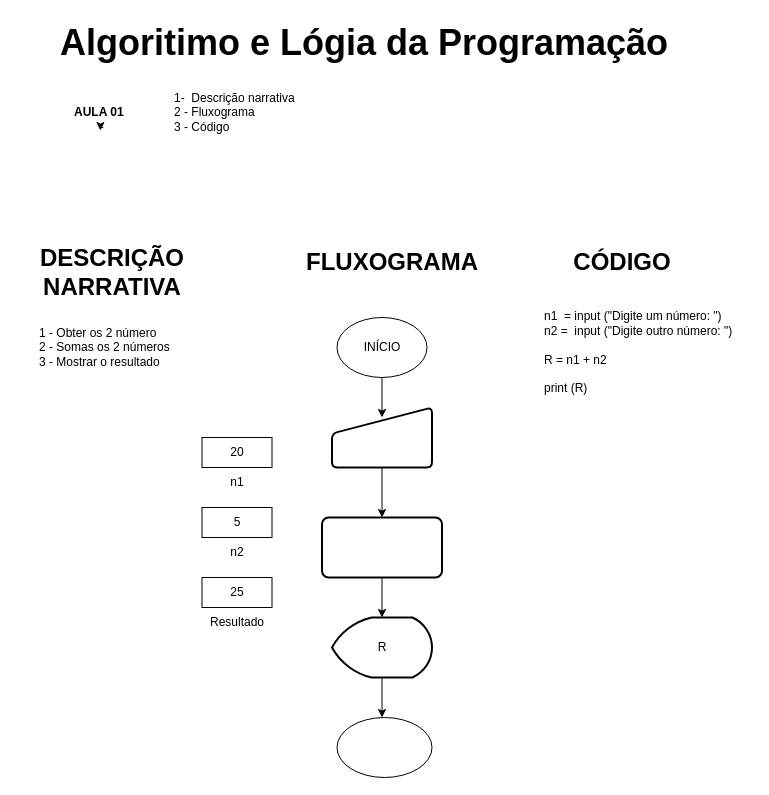
The diagram is 769 pixels wide and 795 high, and some of its shapes have lost their labels. Each missing label, with the centre of its shape:
"FIM" goes at (384,747).
"n1, n2" goes at (381,437).
"R = n1 + n2" goes at (381,547).
